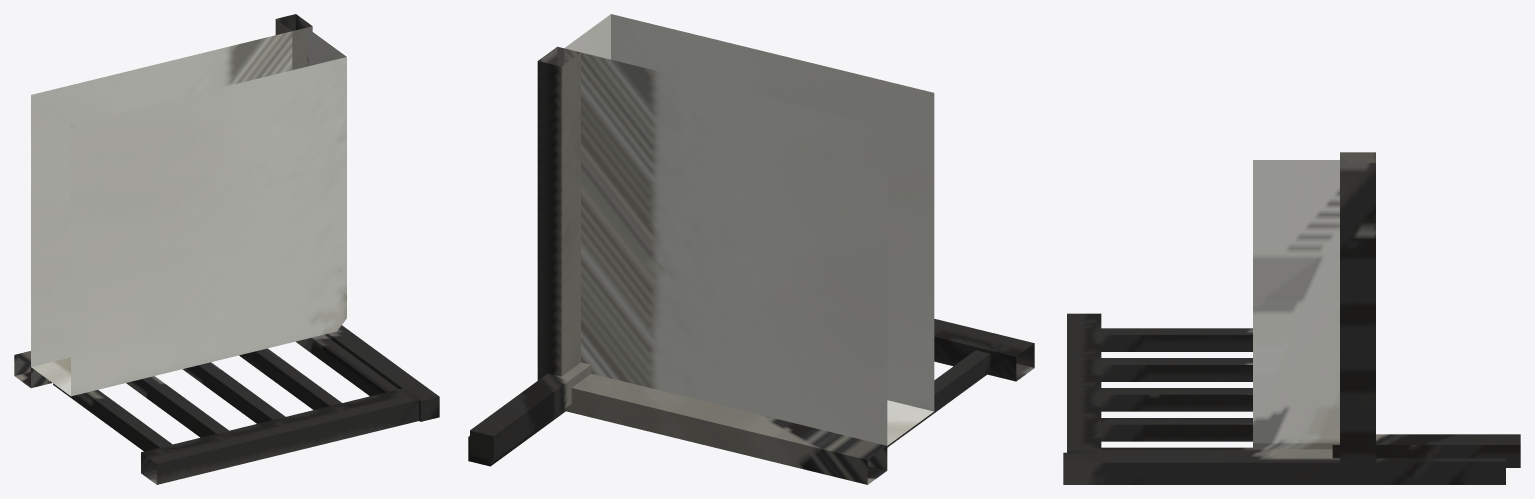
Rendered from pz_bed_bedding_01_large_fancy_1_0.obj.
The picture shows the model from 3 angles, left to right: view 1: azimuth 30°, elevation 25°; view 2: azimuth 150°, elevation 25°; view 3: azimuth 270°, elevation 25°; orthographic projection. The views are drawn at different scales.
Size of the model in its own units: 0.975 by 0.985 by 1.26.
Materials: 1 (1 with a texture image).
